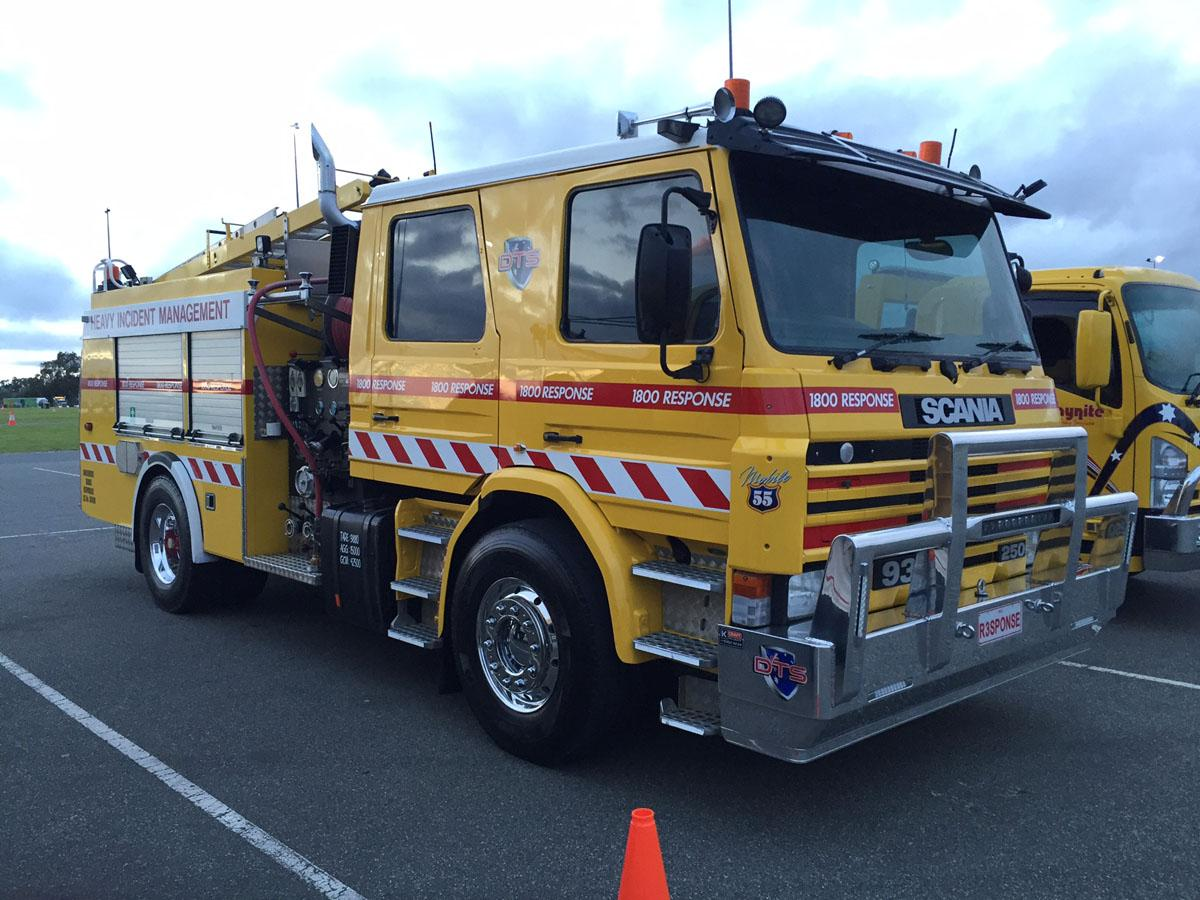Fire-engine: (75, 55, 1140, 767), (853, 254, 1199, 581)
